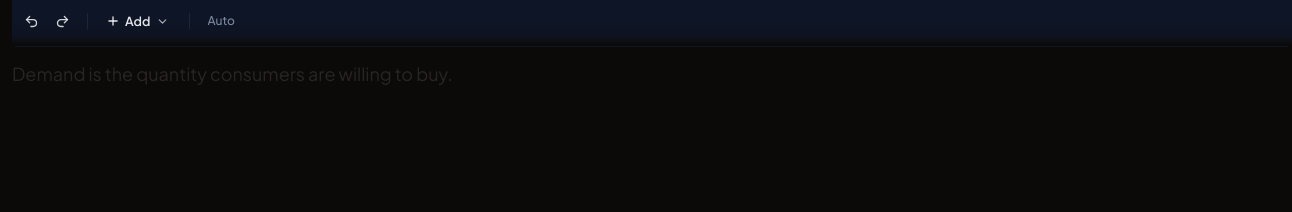
Scenario: M7.4A selection-toolbar eligibility (caret must not summon) › 4–5. mouse selection shows toolbar only after pointerup (no mid-drag open)
Press the mouse on the field labelled "Demand is the quantity consumers are willing to buy.": [232, 74] box x1=12 y1=62 x2=453 y2=85
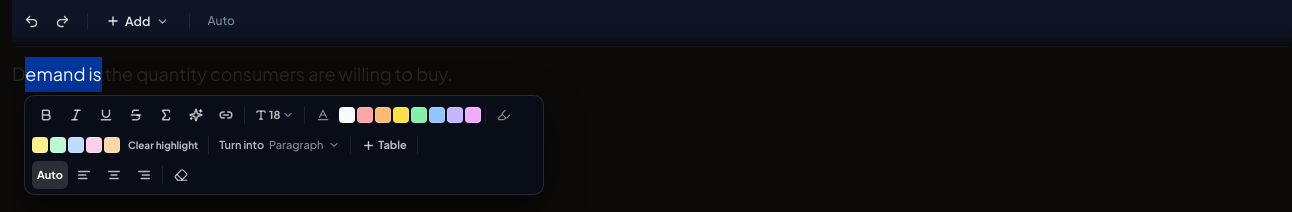
Result: the element showing "18 Clear highlight Turn into Paragraph Table Auto" is shown at x1=24 y1=95 x2=544 y2=195
Result: the button "Turn into Paragraph" is shown at x1=213 y1=131 x2=346 y2=159
